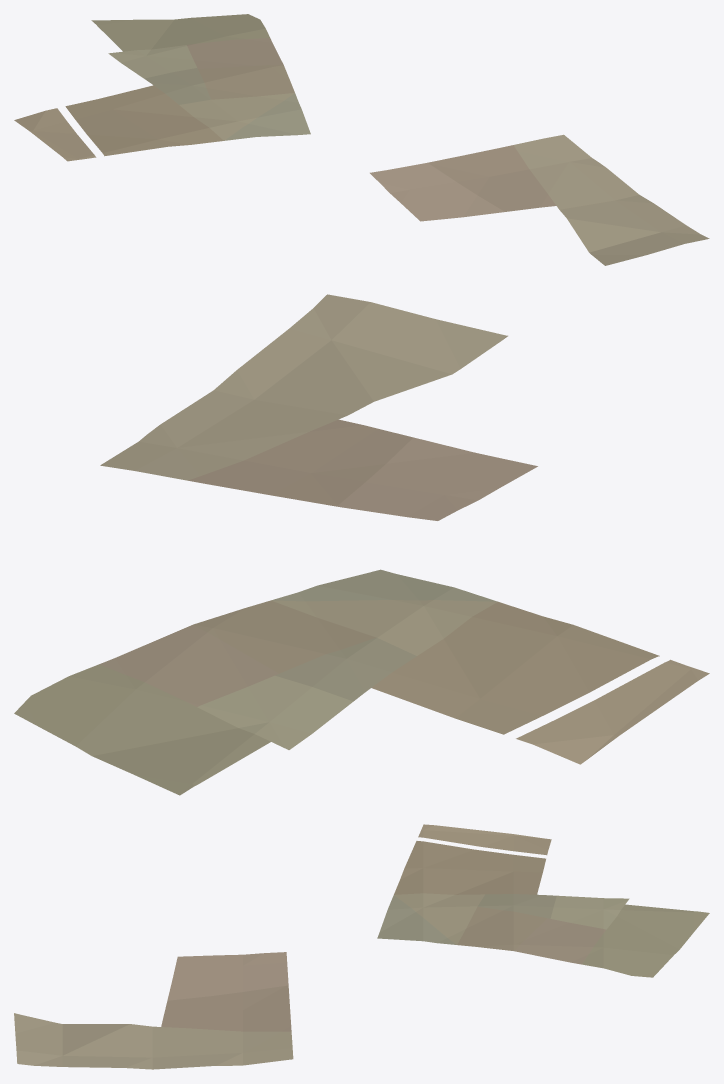
Rendered from farm_0_16_soil.glb.
The picture shows the model from 3 angles, top to bottom: view 1: azimuth 30°, elevation 25°; view 2: azimuth 150°, elevation 25°; view 3: azimuth 270°, elevation 25°; orthographic projection. The views are drawn at different scales.
Parts seen in each view (by area): view 1: geometry_0; view 2: geometry_0; view 3: geometry_0.
Part boxes in pixels (bbox=[...]): geometry_0: bbox=[14, 14, 709, 265]; geometry_0: bbox=[14, 294, 709, 795]; geometry_0: bbox=[14, 824, 709, 1069].
Size of the model in its own units: 437 by 37.89 by 617.
